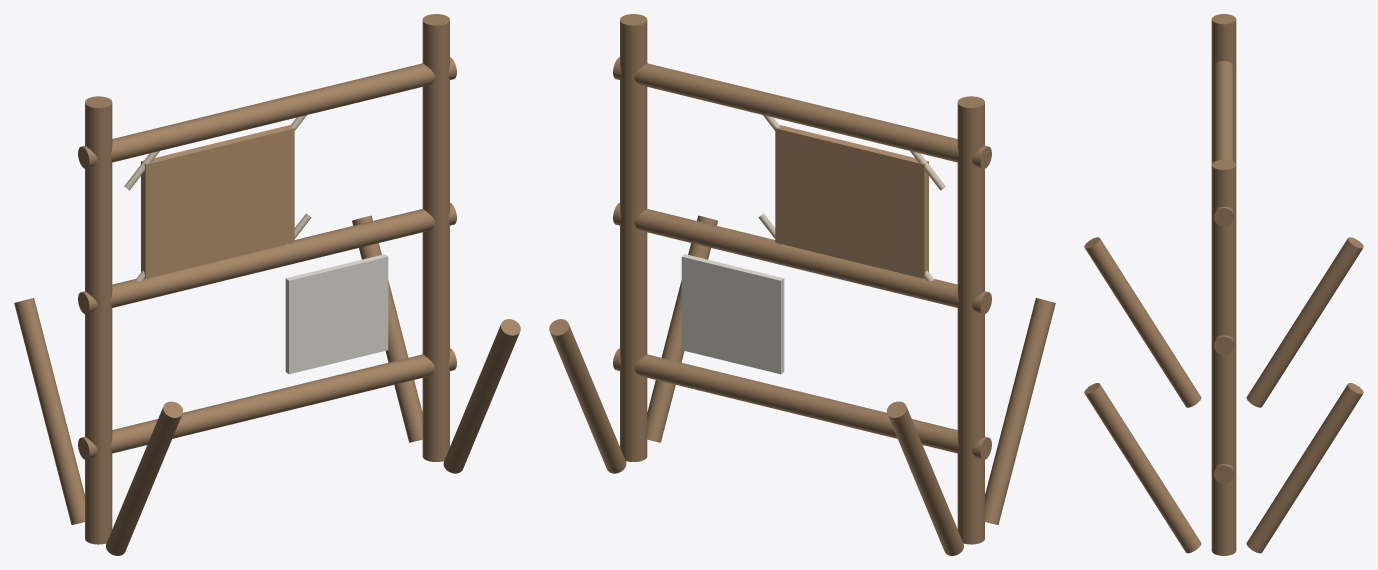
File: fur_drying_rack.glb
3 renders of one model, left to right at view 1: azimuth 30°, elevation 25°; view 2: azimuth 150°, elevation 25°; view 3: azimuth 270°, elevation 25°, orthographic. The views are drawn at different scales.
Visible parts, largest first — view 1: Cube, Cylinder, Cylinder.001, Cube.001, Cylinder.004, Cylinder.003, Cylinder.002, Cylinder.006, Cylinder.007, Cylinder.005, Cylinder.008; view 2: Cube, Cylinder, Cylinder.001, Cube.001, Cylinder.004, Cylinder.003, Cylinder.002, Cylinder.005, Cylinder.008, Cylinder.006, Cylinder.007; view 3: Cylinder.001, Cylinder.005, Cylinder.006, Cylinder.007, Cylinder.008, Cylinder.004, Cylinder.
Boxes of the visible parts, box(x1,y1,x2,y2) form: Cube: box(141, 125, 294, 278); Cylinder: box(85, 96, 112, 544); Cylinder.001: box(422, 14, 449, 461); Cube.001: box(285, 254, 388, 374); Cylinder.004: box(78, 57, 456, 168); Cylinder.003: box(78, 203, 456, 314); Cylinder.002: box(78, 348, 456, 459); Cylinder.006: box(14, 298, 84, 524); Cylinder.007: box(443, 319, 520, 473); Cylinder.005: box(106, 401, 182, 555); Cylinder.008: box(352, 215, 422, 442); Cube: box(775, 125, 928, 278); Cylinder: box(957, 96, 984, 544); Cylinder.001: box(620, 14, 647, 461); Cube.001: box(681, 254, 784, 374); Cylinder.004: box(613, 57, 991, 168); Cylinder.003: box(613, 203, 991, 314); Cylinder.002: box(613, 348, 991, 459); Cylinder.005: box(985, 298, 1055, 524); Cylinder.008: box(549, 319, 626, 473); Cylinder.006: box(887, 401, 963, 555); Cylinder.007: box(647, 215, 717, 442); Cylinder.001: box(1211, 159, 1236, 555); Cylinder.005: box(1084, 237, 1201, 407); Cylinder.006: box(1246, 237, 1363, 407); Cylinder.007: box(1084, 383, 1201, 553); Cylinder.008: box(1246, 383, 1363, 553); Cylinder.004: box(1214, 61, 1233, 226); Cylinder: box(1211, 14, 1236, 164).
Size of the model in its own units: 1.85 by 2.11 by 1.38.
